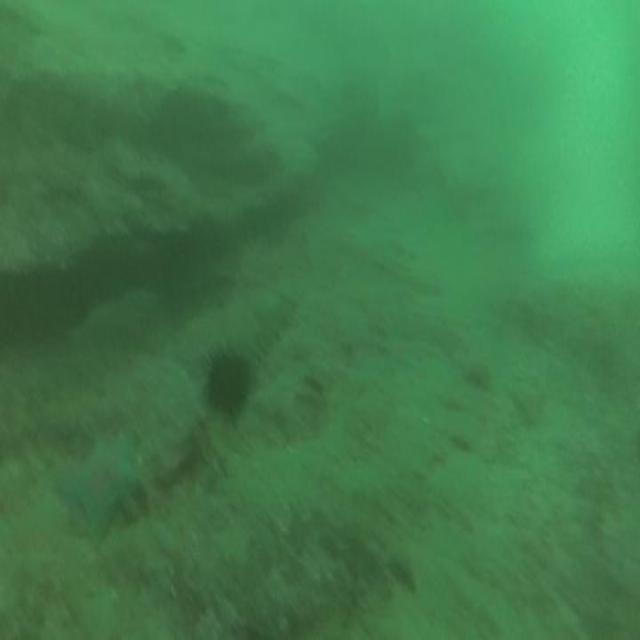echinus: (209, 348, 247, 414)
holothurian: (243, 302, 297, 362)
starfish: (61, 430, 144, 542)
